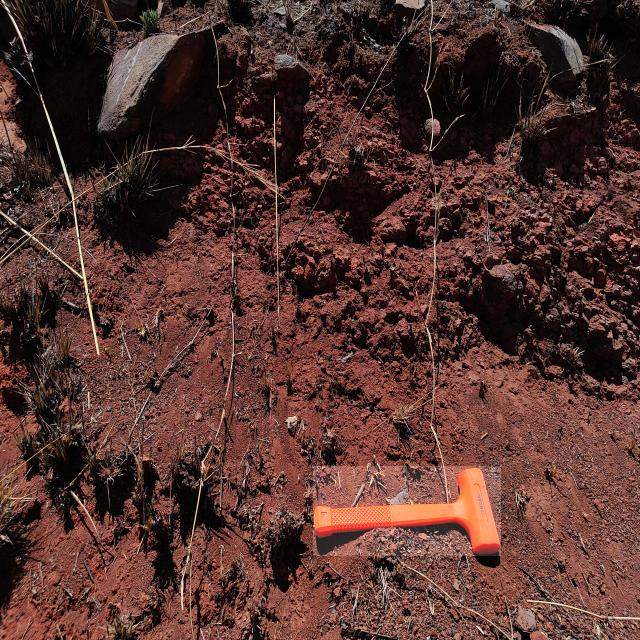Orange_hammer: (313, 466, 501, 556)
